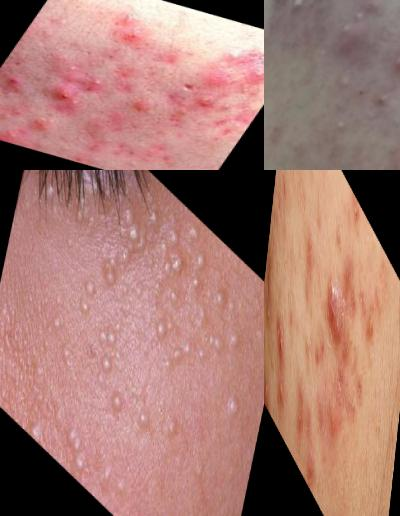blackhead: (324, 385, 335, 436)
cystic: (321, 1, 389, 64)
milium: (96, 171, 159, 306), (160, 207, 212, 306), (59, 409, 97, 485), (73, 256, 106, 331), (52, 319, 86, 390), (93, 310, 122, 384), (97, 240, 129, 307), (146, 292, 179, 355), (195, 313, 226, 380), (170, 324, 197, 384), (159, 402, 186, 454), (98, 450, 122, 500), (107, 380, 131, 429), (211, 273, 234, 323), (25, 405, 50, 449), (134, 402, 157, 449), (164, 276, 187, 322), (224, 320, 245, 364), (223, 383, 243, 429), (40, 171, 60, 215), (150, 262, 169, 305), (51, 308, 68, 345)
papular: (41, 85, 85, 114), (109, 25, 148, 53), (368, 86, 400, 119), (127, 95, 167, 118), (1, 71, 32, 95), (196, 72, 226, 95), (239, 64, 265, 88)
purulent: (321, 101, 362, 151), (187, 93, 228, 118), (284, 1, 321, 28), (385, 30, 400, 84), (331, 155, 376, 171), (265, 297, 273, 343), (265, 367, 273, 413)
sebo-crystan-conglo: (321, 257, 348, 356)
